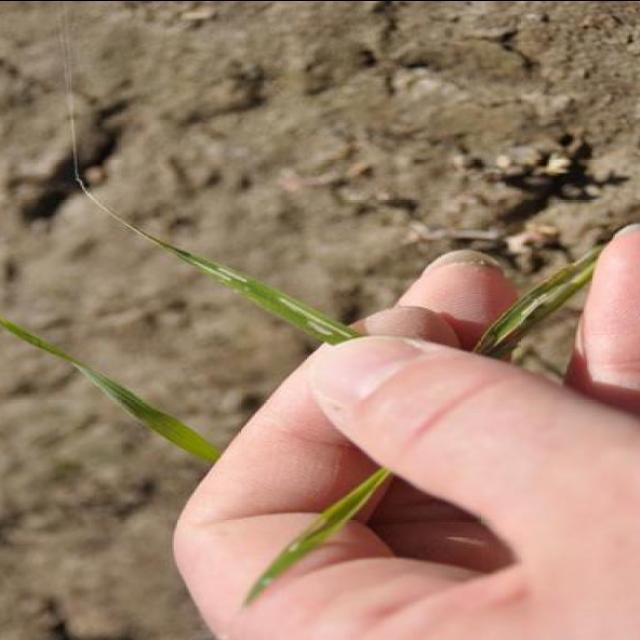brown plant hopper: (300, 315, 344, 332)
